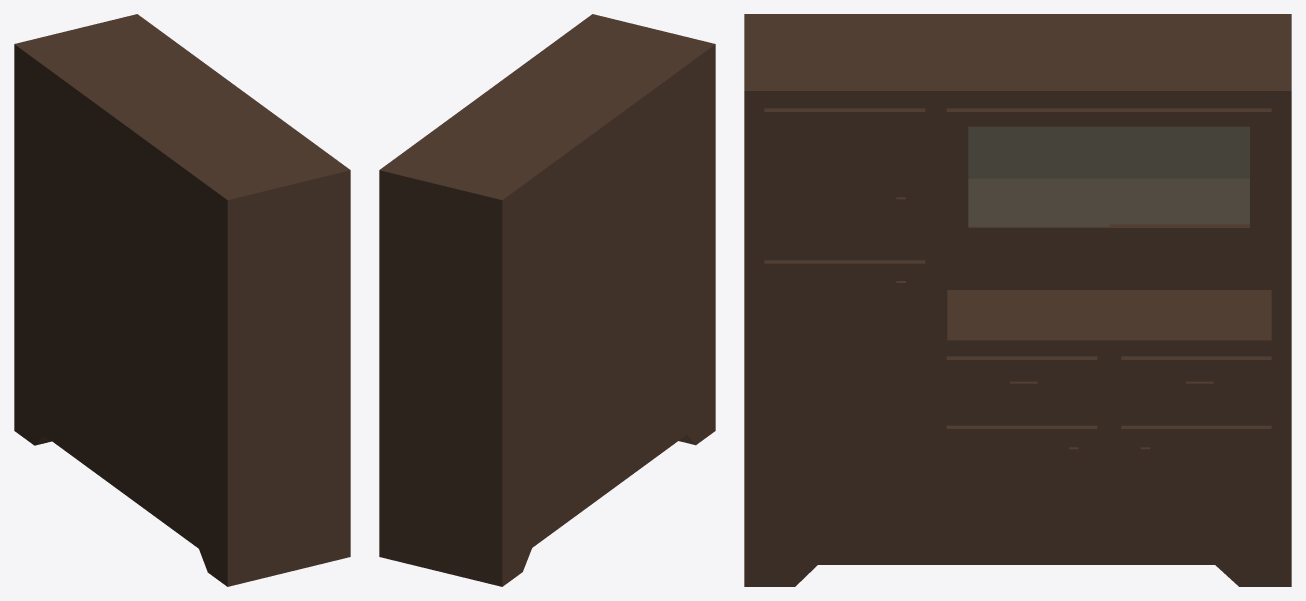
The model's file is S_Forniture_4.fbx.
3 views of the same model, side by side, from view 1: azimuth 30°, elevation 25°; view 2: azimuth 150°, elevation 25°; view 3: azimuth 270°, elevation 25° (orthographic). The views are drawn at different scales.
Visible parts, largest first — view 1: S_Forniture_4; view 2: S_Forniture_4; view 3: S_Forniture_4.
Boxes of the visible parts, left/top/right/bottom form: S_Forniture_4: left=14, top=14, right=350, bottom=586; S_Forniture_4: left=379, top=14, right=715, bottom=586; S_Forniture_4: left=744, top=14, right=1291, bottom=586.
Bounding box in the file's own units: 75.31 × 210 × 210.
